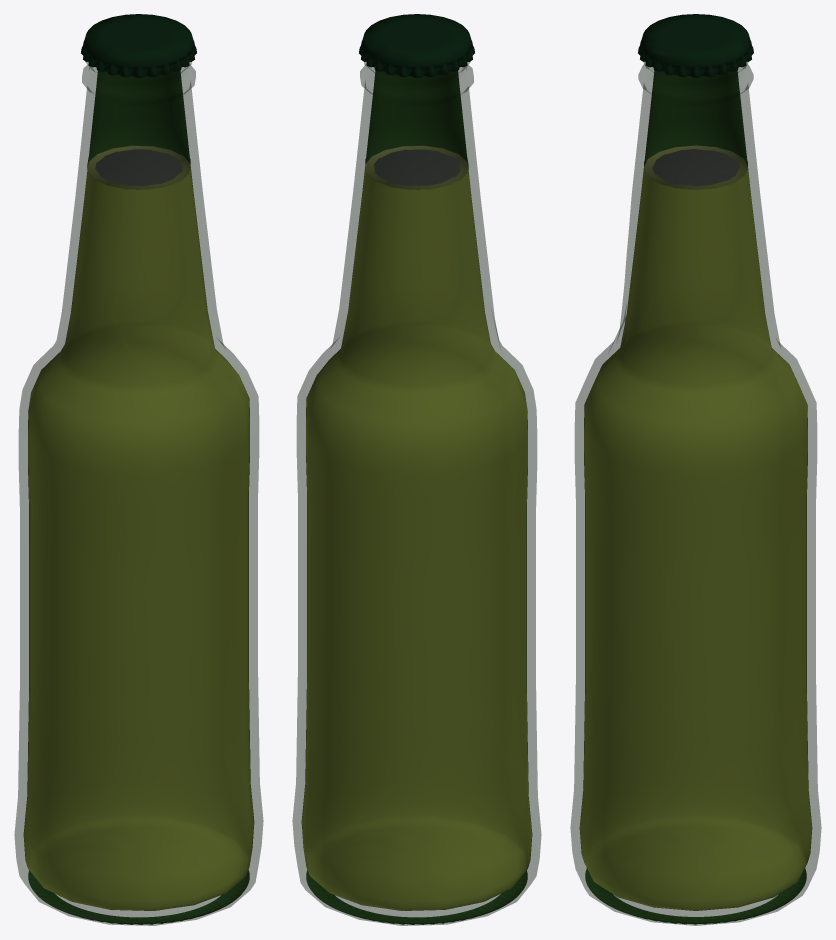
File: Beer Bottle.obj
3 views of the same model, side by side, from view 1: azimuth 30°, elevation 25°; view 2: azimuth 150°, elevation 25°; view 3: azimuth 270°, elevation 25° (orthographic).
Visible parts, largest first — view 1: GARRAFA_VIDRO_FORA_0, GARRAFA_LIQUIDO_0, GARRAFA_VIDRO_DENTRO_0, GARRAFA_TAMPA_0, GARRAFA_LIMITE_LIQUIDO_0; view 2: GARRAFA_VIDRO_FORA_0, GARRAFA_LIQUIDO_0, GARRAFA_VIDRO_DENTRO_0, GARRAFA_TAMPA_0, GARRAFA_LIMITE_LIQUIDO_0; view 3: GARRAFA_VIDRO_FORA_0, GARRAFA_LIQUIDO_0, GARRAFA_VIDRO_DENTRO_0, GARRAFA_TAMPA_0, GARRAFA_LIMITE_LIQUIDO_0.
Boxes of the visible parts, x1,y1,x2,y2 form: GARRAFA_VIDRO_FORA_0: [14, 55, 263, 925]; GARRAFA_LIQUIDO_0: [24, 146, 253, 910]; GARRAFA_VIDRO_DENTRO_0: [23, 70, 254, 924]; GARRAFA_TAMPA_0: [81, 14, 196, 78]; GARRAFA_LIMITE_LIQUIDO_0: [87, 145, 190, 189]; GARRAFA_VIDRO_FORA_0: [292, 55, 541, 925]; GARRAFA_LIQUIDO_0: [302, 146, 531, 910]; GARRAFA_VIDRO_DENTRO_0: [301, 70, 532, 924]; GARRAFA_TAMPA_0: [359, 14, 474, 78]; GARRAFA_LIMITE_LIQUIDO_0: [365, 145, 468, 189]; GARRAFA_VIDRO_FORA_0: [570, 54, 821, 925]; GARRAFA_LIQUIDO_0: [580, 145, 811, 910]; GARRAFA_VIDRO_DENTRO_0: [579, 70, 812, 924]; GARRAFA_TAMPA_0: [638, 14, 753, 77]; GARRAFA_LIMITE_LIQUIDO_0: [644, 145, 747, 189].
Size of the model in its own units: 12.73 by 47.38 by 12.73.
